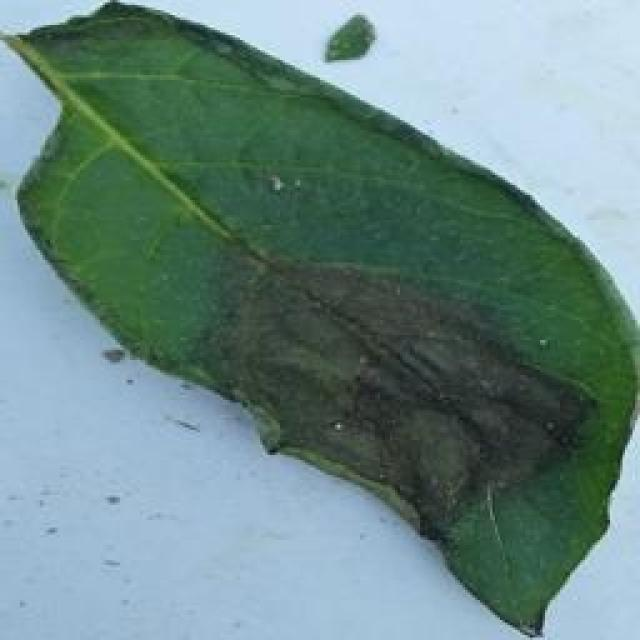Potato_Late_Blight: (6, 13, 622, 632)
